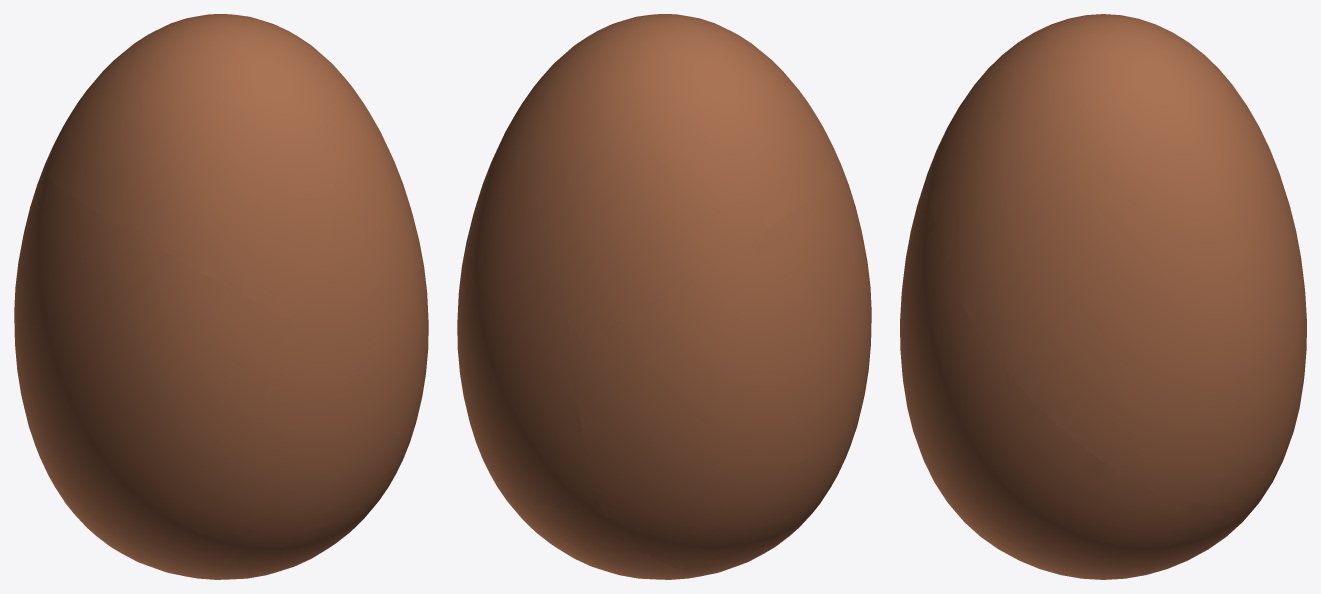
The model's file is Egg4.fbx.
3 renders of one model, left to right at view 1: azimuth 30°, elevation 25°; view 2: azimuth 150°, elevation 25°; view 3: azimuth 270°, elevation 25°, orthographic.
Visible parts, largest first — view 1: Cube_cell.002, Cube, Cube_cell.001, Cube_cell, Cube_cell.003; view 2: Cube, Cube_cell.002, Cube_cell.001, Cube_cell.003, Cube_cell; view 3: Cube, Cube_cell, Cube_cell.003, Cube_cell.001.
Boxes of the visible parts, bbox=[...] form: Cube_cell.002: bbox=[14, 171, 289, 563]; Cube: bbox=[32, 14, 428, 579]; Cube_cell.001: bbox=[42, 14, 335, 319]; Cube_cell: bbox=[286, 30, 425, 281]; Cube_cell.003: bbox=[136, 231, 396, 578]; Cube: bbox=[457, 32, 868, 577]; Cube_cell.002: bbox=[575, 168, 871, 572]; Cube_cell.001: bbox=[548, 14, 839, 341]; Cube_cell.003: bbox=[483, 460, 729, 579]; Cube_cell: bbox=[487, 30, 599, 506]; Cube: bbox=[900, 15, 1306, 579]; Cube_cell: bbox=[932, 87, 1301, 503]; Cube_cell.003: bbox=[910, 186, 1280, 579]; Cube_cell.001: bbox=[914, 14, 1301, 261].
Size of the model in its own units: 387 by 561 by 387.
